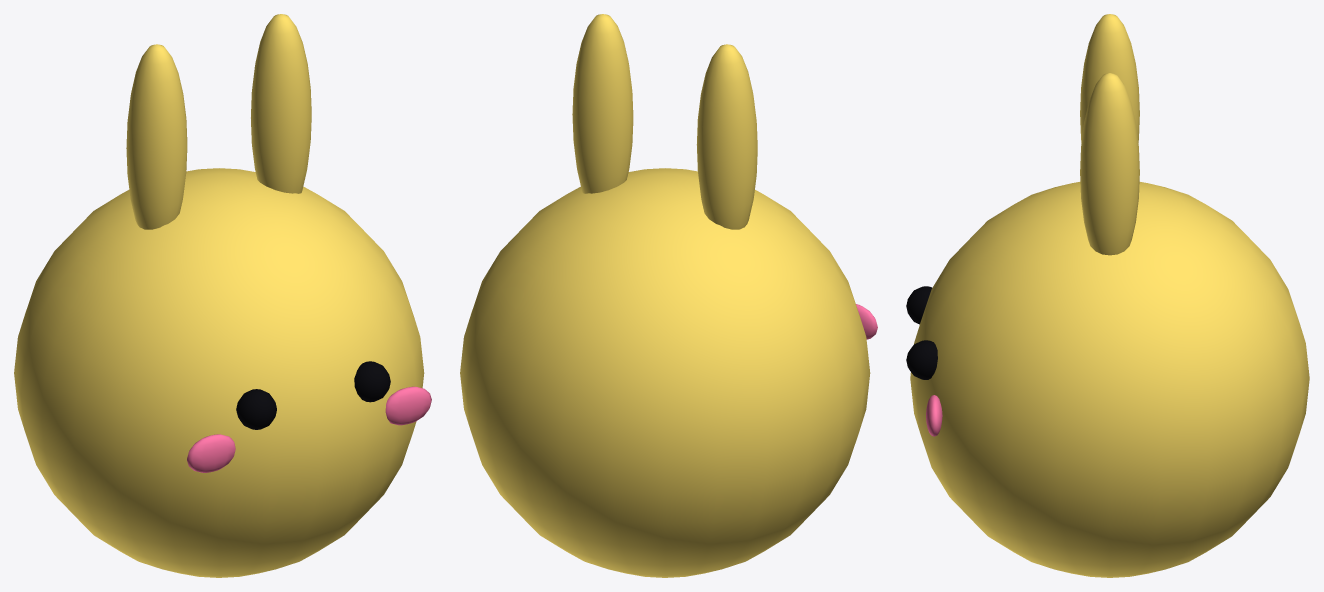
File: bunny.obj
3 renders of one model, left to right at view 1: azimuth 30°, elevation 25°; view 2: azimuth 150°, elevation 25°; view 3: azimuth 270°, elevation 25°, orthographic. The views are drawn at different scales.
Visible parts, largest first — view 1: Character_bunny_Sphere.096; view 2: Character_bunny_Sphere.096; view 3: Character_bunny_Sphere.096.
Boxes of the visible parts, x1,y1,x2,y2 form: Character_bunny_Sphere.096: (14, 14, 431, 577); Character_bunny_Sphere.096: (460, 14, 877, 577); Character_bunny_Sphere.096: (906, 14, 1309, 577).
Size of the model in its own units: 2 by 2.85 by 2.02.
